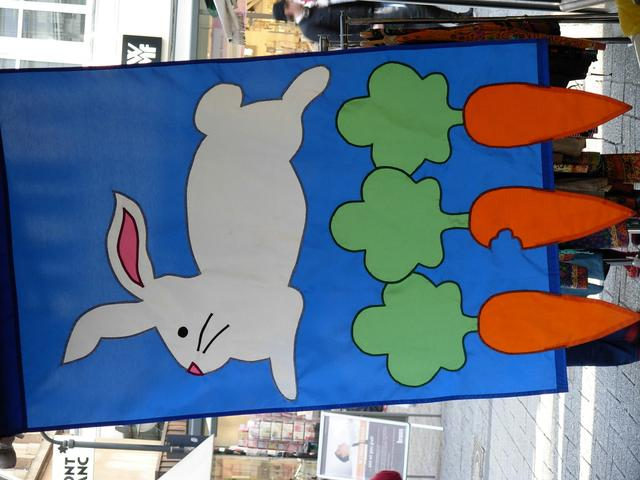rabbit: (46, 48, 350, 407)
